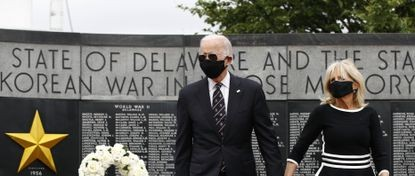with_mask: (195, 35, 237, 81), (322, 63, 364, 104)
